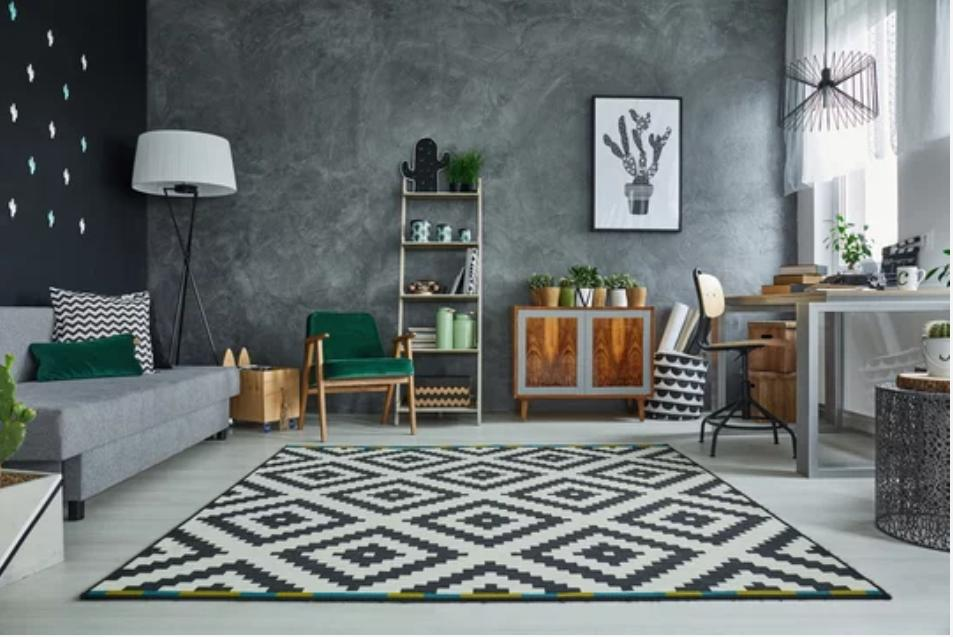carpet: (82, 442, 890, 601)
